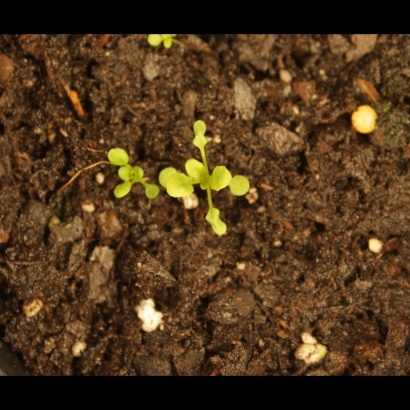leaf: (138, 179, 167, 218), (202, 204, 232, 239), (182, 154, 210, 187), (168, 171, 195, 202), (99, 145, 132, 170), (207, 166, 237, 192), (229, 167, 253, 199), (191, 120, 216, 150), (160, 32, 187, 59), (110, 177, 135, 202), (139, 30, 162, 53), (122, 162, 145, 185), (158, 162, 181, 185)
